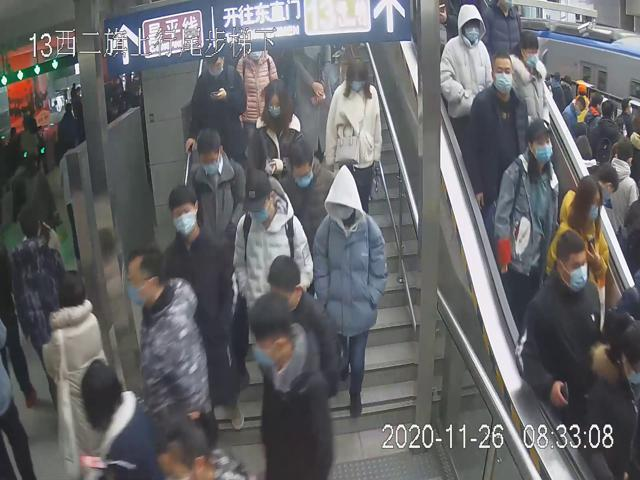person: (163, 182, 245, 433), (313, 163, 389, 419), (233, 169, 314, 324), (494, 116, 558, 300), (464, 47, 530, 208), (324, 51, 383, 210), (182, 45, 247, 163), (187, 128, 246, 244), (246, 74, 301, 171)
